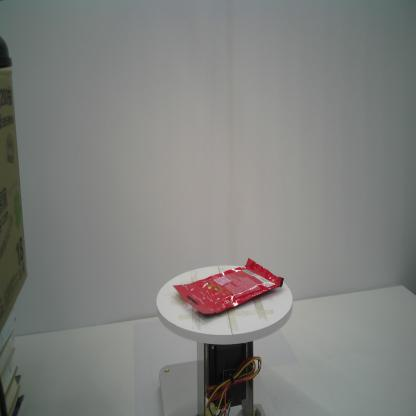Candy: (172, 256, 284, 317)
